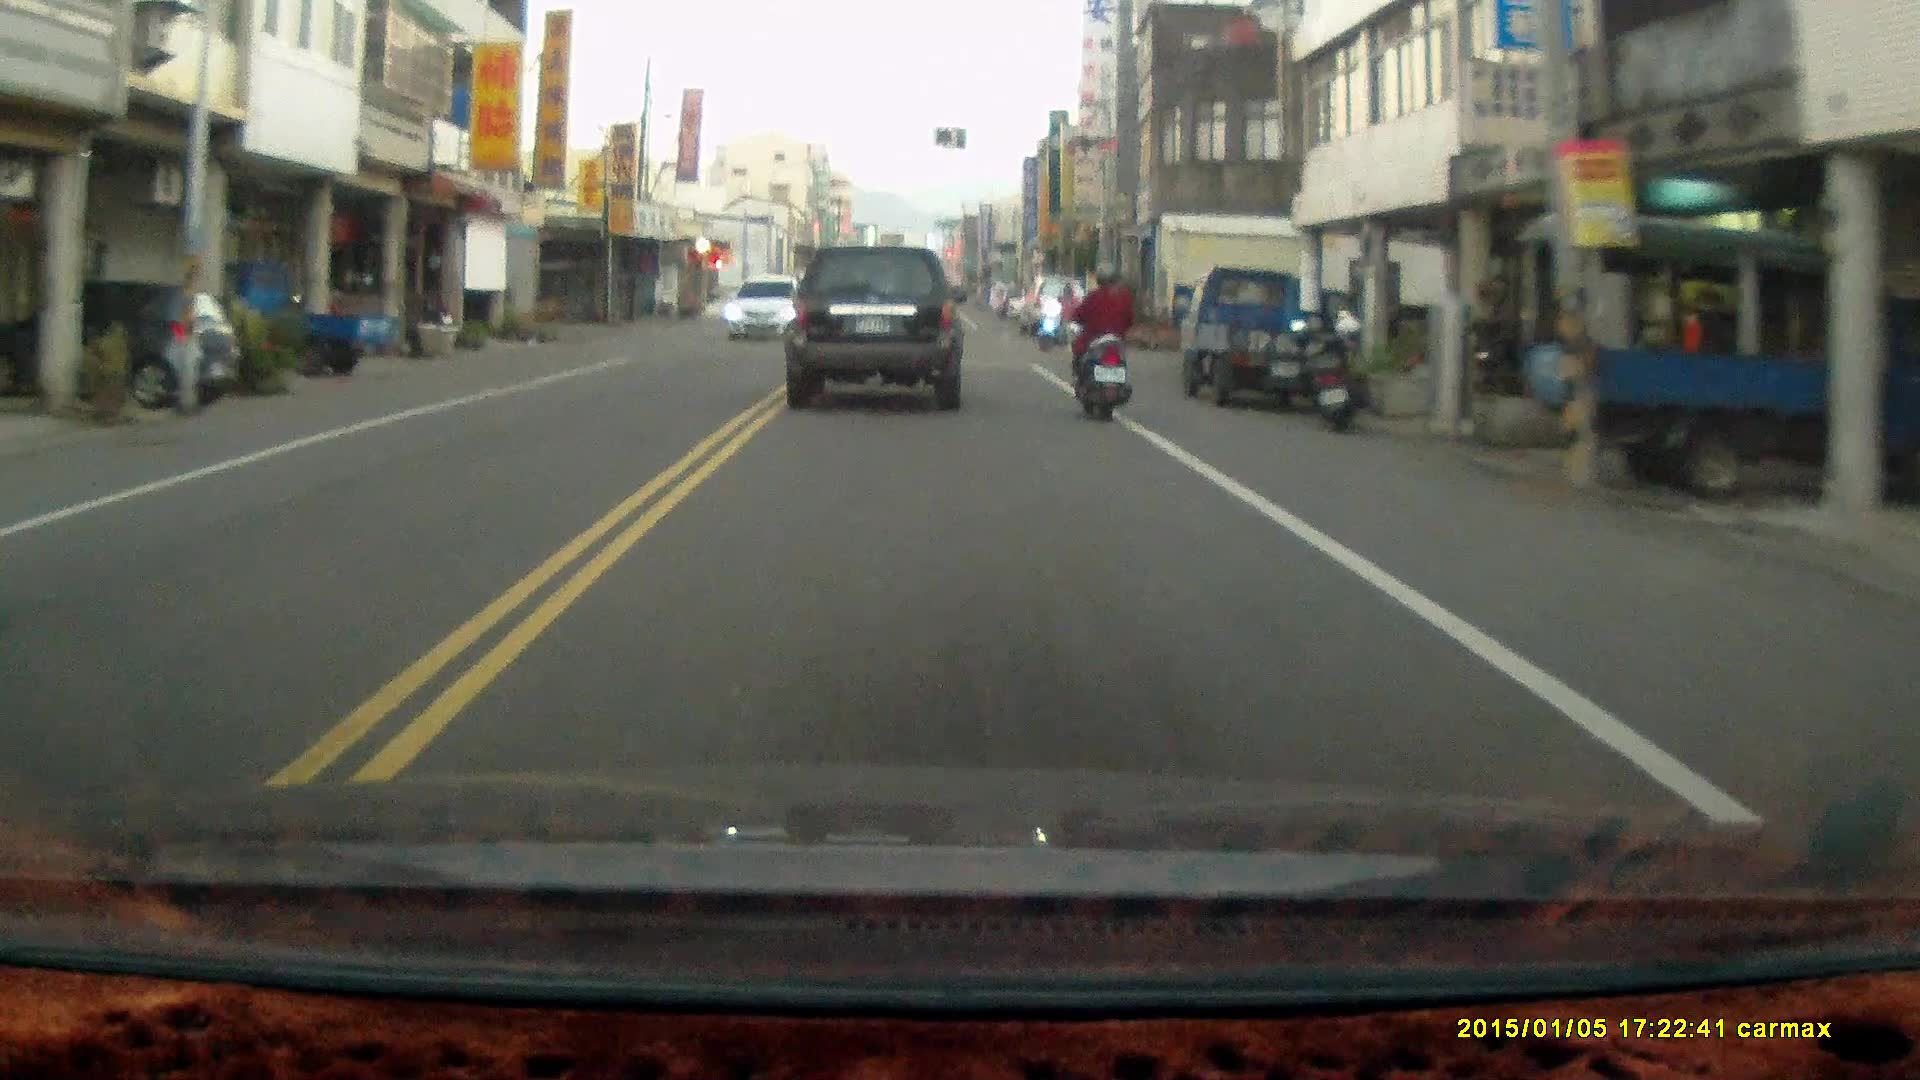rider: (1072, 261, 1132, 422), (1034, 284, 1081, 350)
vehicle: (1557, 218, 1920, 495), (1, 284, 241, 418), (787, 246, 968, 416), (1179, 270, 1363, 411), (201, 259, 402, 377), (728, 279, 804, 343)
